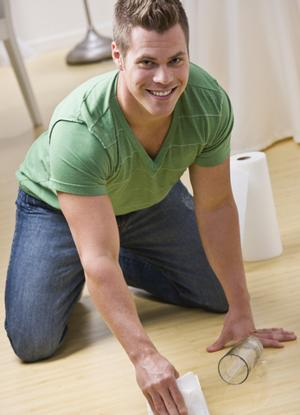person: (5, 3, 299, 415)
